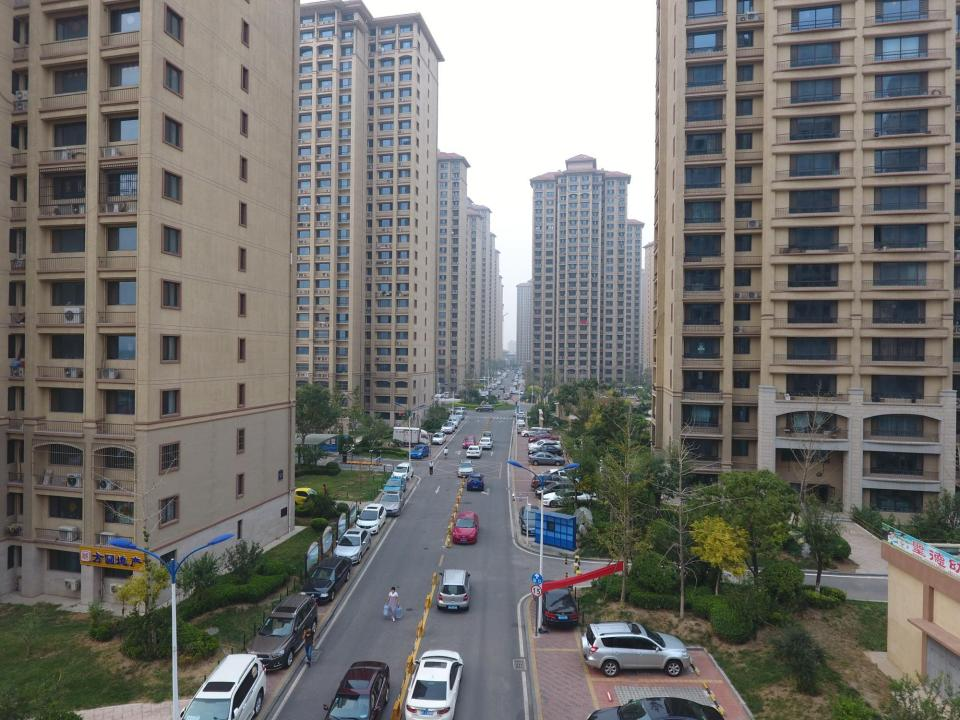car: (580, 622, 690, 677), (246, 594, 318, 672), (404, 649, 464, 720), (323, 661, 389, 720), (584, 697, 724, 720), (300, 556, 353, 604), (532, 580, 578, 628), (332, 528, 371, 565), (437, 569, 470, 611), (542, 488, 597, 508), (355, 501, 387, 535), (452, 511, 479, 544), (534, 481, 586, 498), (530, 472, 575, 490), (518, 505, 544, 536), (377, 489, 405, 517), (535, 469, 580, 486), (292, 488, 322, 507), (382, 475, 406, 496), (528, 452, 565, 465), (390, 463, 414, 482), (528, 445, 563, 456), (456, 460, 475, 478), (466, 473, 484, 491), (409, 444, 430, 459), (528, 441, 560, 450), (526, 440, 560, 448), (528, 434, 556, 443), (529, 432, 559, 440), (521, 427, 543, 437), (478, 437, 494, 450), (431, 432, 446, 445), (466, 445, 482, 457), (440, 421, 454, 434), (463, 436, 476, 450), (528, 430, 550, 437), (450, 406, 467, 415), (447, 417, 458, 429), (476, 405, 494, 412), (449, 415, 461, 425), (516, 420, 526, 429), (513, 409, 523, 417), (516, 411, 526, 419), (516, 417, 526, 424), (434, 392, 444, 398), (454, 393, 463, 399), (479, 392, 486, 397)
truck: (392, 427, 430, 448)
van: (178, 654, 266, 720), (481, 431, 493, 443), (516, 422, 526, 434), (454, 409, 464, 420), (443, 392, 452, 398), (503, 393, 511, 399)
